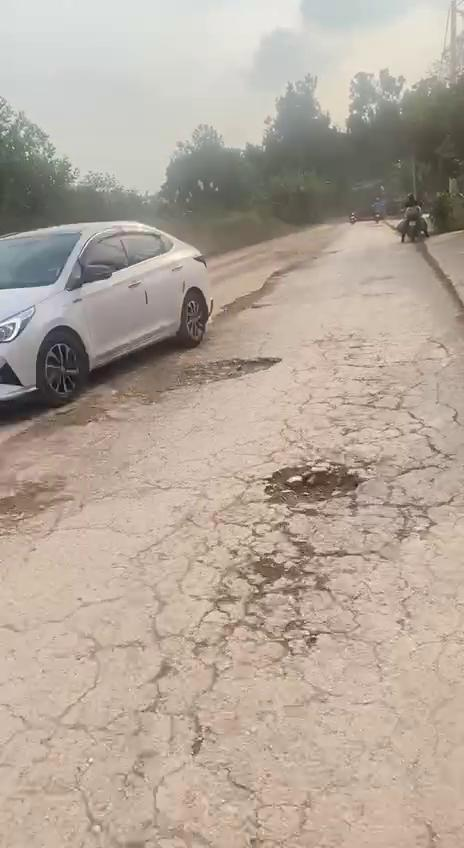pothole: (145, 350, 281, 396), (260, 457, 362, 506), (0, 474, 79, 525)
